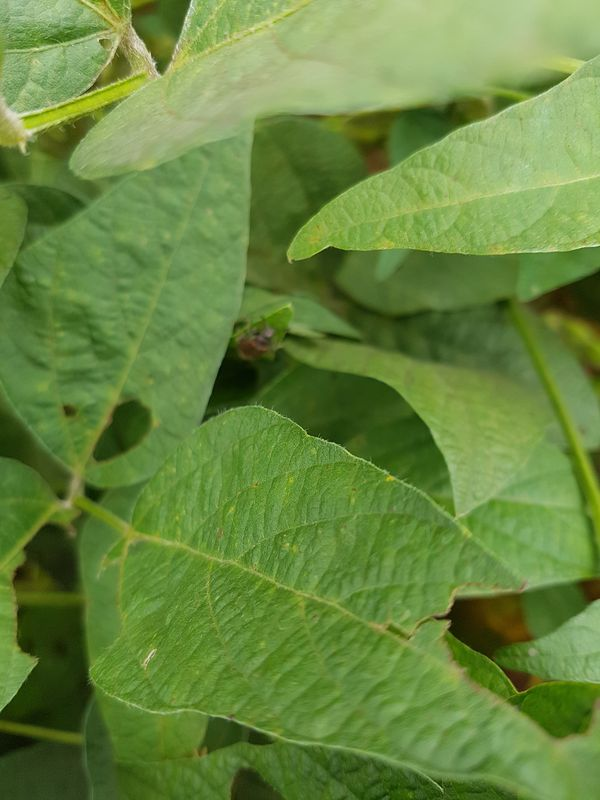Lagria_villosa: (219, 306, 293, 380)
